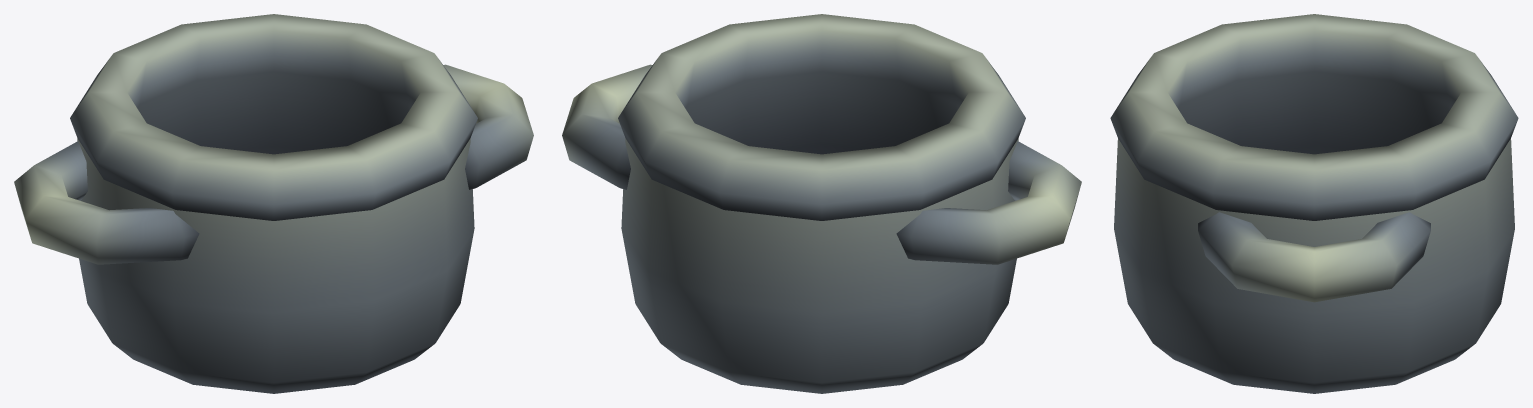
The model's file is pot_LOD_setup.fbx.
3 renders of one model, left to right at view 1: azimuth 30°, elevation 25°; view 2: azimuth 150°, elevation 25°; view 3: azimuth 270°, elevation 25°, orthographic.
Parts seen in each view (by area): view 1: pot_LOD0; view 2: pot_LOD0; view 3: pot_LOD0.
Boxes of the visible parts, x1,y1,x2,y2 form: pot_LOD0: (14,14,533,393); pot_LOD0: (562,14,1081,393); pot_LOD0: (1110,14,1518,393).
Size of what is drawn, in the model's own units: 97.59 by 43.76 by 69.46.
